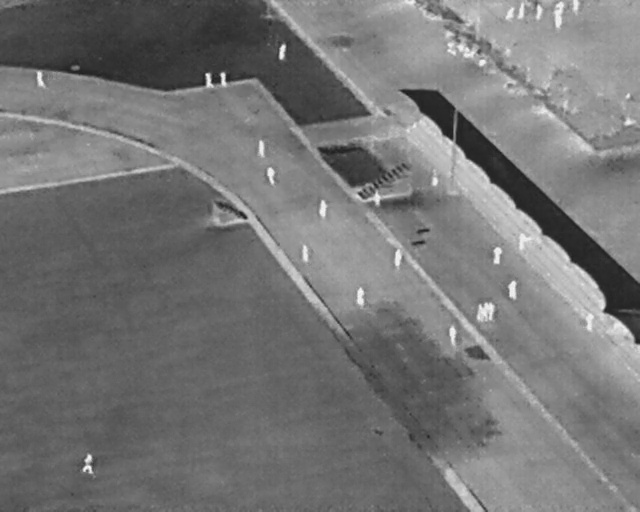DontCare: (444, 34, 488, 70), (552, 0, 566, 31)
Person: (83, 453, 95, 475), (35, 71, 47, 89), (507, 280, 517, 301), (448, 325, 458, 345), (318, 199, 328, 219), (256, 139, 266, 158), (493, 246, 503, 265), (394, 248, 403, 269), (357, 287, 366, 308), (266, 167, 276, 185), (585, 313, 594, 333), (301, 244, 310, 263), (373, 189, 382, 208), (205, 72, 215, 89), (535, 4, 545, 21), (431, 168, 439, 188), (571, 0, 581, 16), (279, 42, 287, 61), (518, 2, 526, 20), (482, 301, 489, 321), (506, 7, 515, 22), (476, 303, 483, 322), (489, 302, 496, 321), (220, 72, 228, 87)
